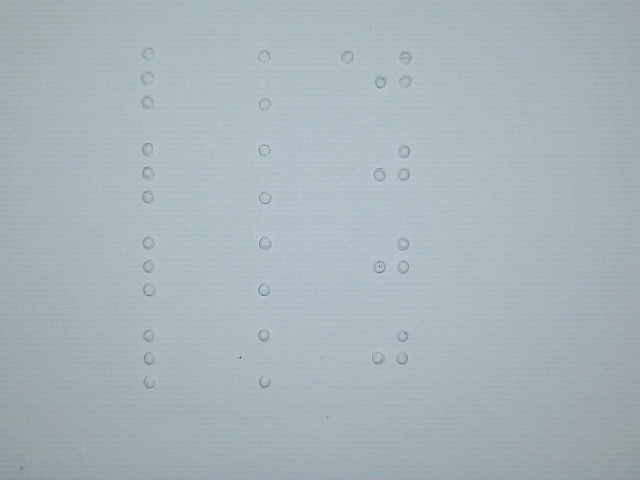J: (372, 40, 415, 105), (370, 135, 413, 200), (370, 226, 413, 291), (369, 318, 412, 383)
K: (249, 47, 292, 112), (250, 142, 293, 207), (250, 233, 293, 298), (250, 325, 293, 390)
L: (133, 45, 176, 110), (132, 140, 175, 205), (133, 233, 176, 298), (135, 326, 178, 391)
